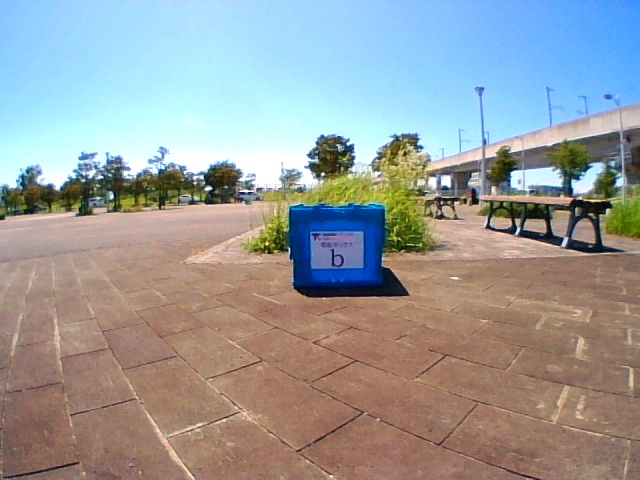blue_box: (289, 205, 385, 283)
tag_b: (311, 232, 364, 269)
